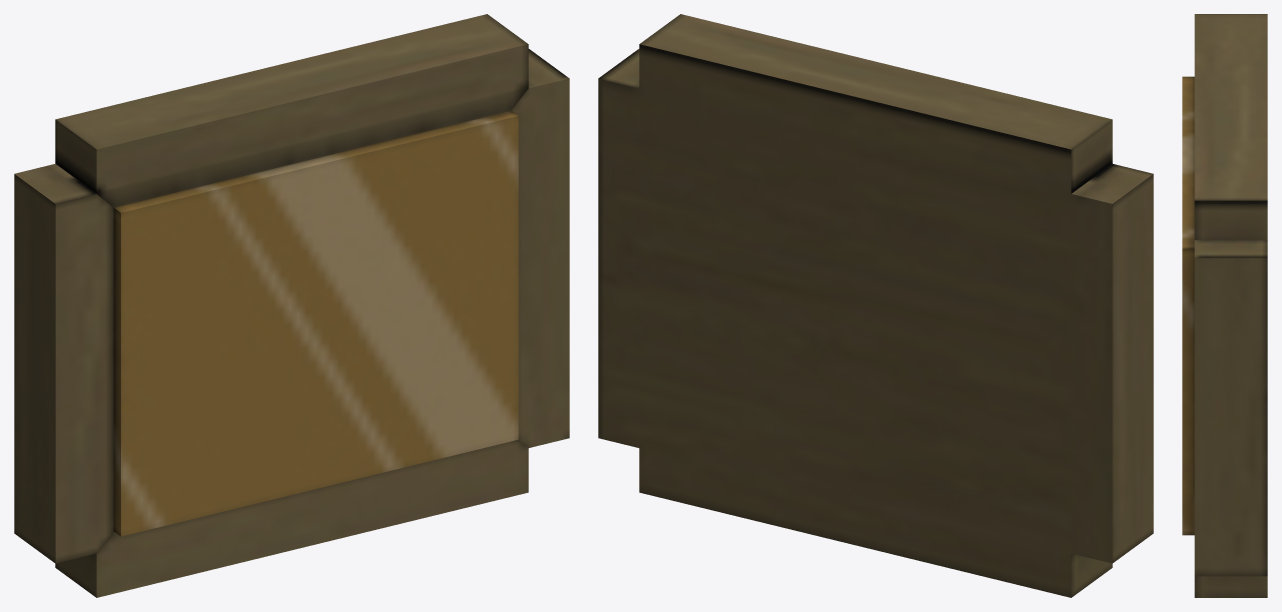
File: Plaque_Trophy.FBX
3 views of the same model, side by side, from view 1: azimuth 30°, elevation 25°; view 2: azimuth 150°, elevation 25°; view 3: azimuth 270°, elevation 25° (orthographic). The views are drawn at different scales.
Parts seen in each view (by area): view 1: Plaque_Trophy_Base; view 2: Plaque_Trophy_Base; view 3: Plaque_Trophy_Base.
Boxes of the visible parts, x1,y1,x2,y2 form: Plaque_Trophy_Base: (14, 14, 569, 597); Plaque_Trophy_Base: (598, 14, 1153, 597); Plaque_Trophy_Base: (1182, 14, 1267, 597).
Bounding box in the file's own units: 10.8 × 9 × 1.76.
